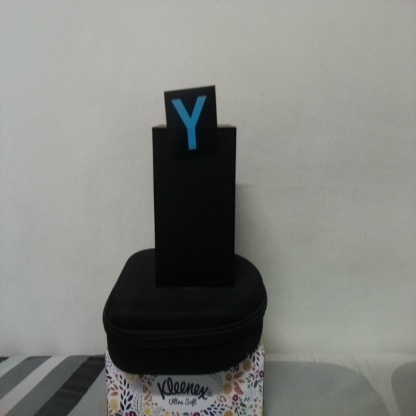id_14: (164, 91, 218, 158)
